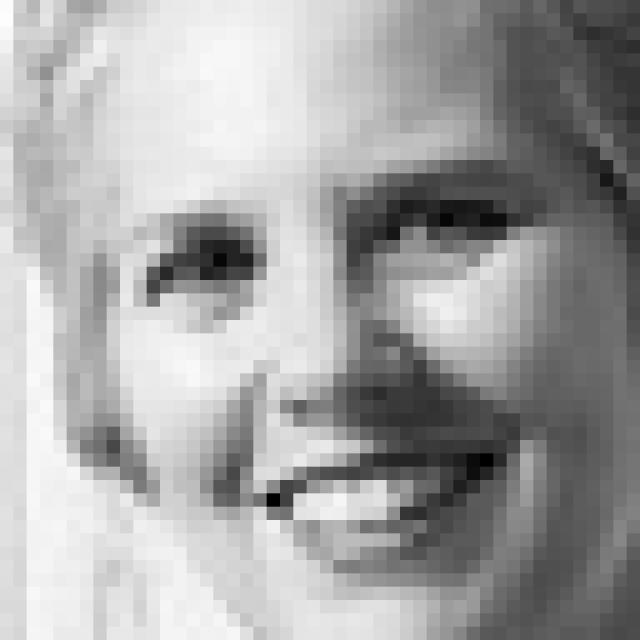happy: (116, 157, 565, 588)
